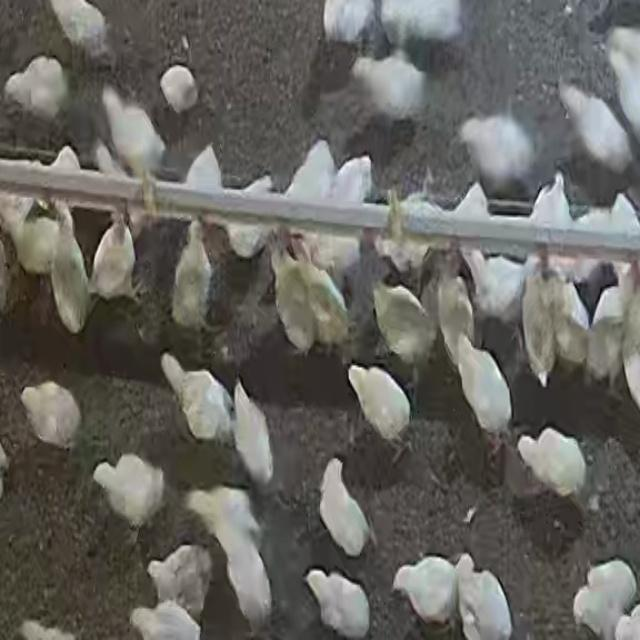chicken: (158, 349, 233, 445), (458, 110, 538, 194), (559, 80, 630, 174), (456, 331, 512, 449), (370, 274, 433, 372), (345, 362, 412, 453), (217, 527, 276, 630), (90, 451, 164, 530), (100, 89, 163, 178), (272, 244, 322, 355), (391, 554, 461, 632), (49, 203, 91, 332), (351, 52, 429, 120), (571, 558, 637, 638), (301, 568, 371, 640), (147, 546, 214, 620), (180, 484, 262, 542), (319, 459, 369, 554), (88, 210, 139, 303), (455, 558, 512, 640), (522, 267, 562, 382), (171, 220, 212, 332), (519, 430, 585, 499), (21, 378, 83, 449), (545, 270, 589, 370), (234, 382, 275, 488), (591, 281, 630, 387), (6, 55, 64, 126), (469, 251, 528, 320), (226, 177, 274, 257), (384, 0, 465, 45), (297, 224, 363, 279), (608, 26, 640, 135), (46, 0, 108, 56), (290, 137, 333, 208), (608, 182, 640, 274), (126, 602, 202, 640), (570, 208, 610, 279), (519, 180, 572, 231), (333, 156, 380, 207), (10, 221, 51, 278), (320, 0, 374, 43), (185, 143, 222, 202), (158, 64, 198, 112)
